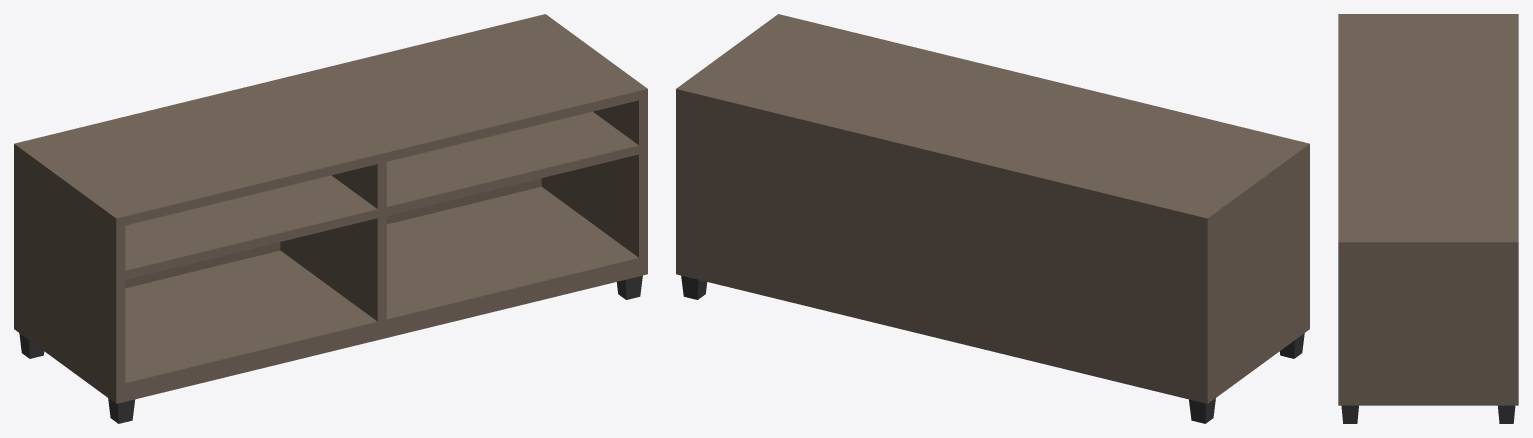
File: TV_Table3_C3.fbx
3 views of the same model, side by side, from view 1: azimuth 30°, elevation 25°; view 2: azimuth 150°, elevation 25°; view 3: azimuth 270°, elevation 25° (orthographic). The views are drawn at different scales.
Visible parts, largest first — view 1: TV_Table3_C3; view 2: TV_Table3_C3; view 3: TV_Table3_C3.
Boxes of the visible parts, bbox=[...] form: TV_Table3_C3: bbox=[14, 14, 647, 423]; TV_Table3_C3: bbox=[676, 14, 1309, 423]; TV_Table3_C3: bbox=[1338, 14, 1518, 423].
Size of the model in its own units: 120 by 45 by 40.
